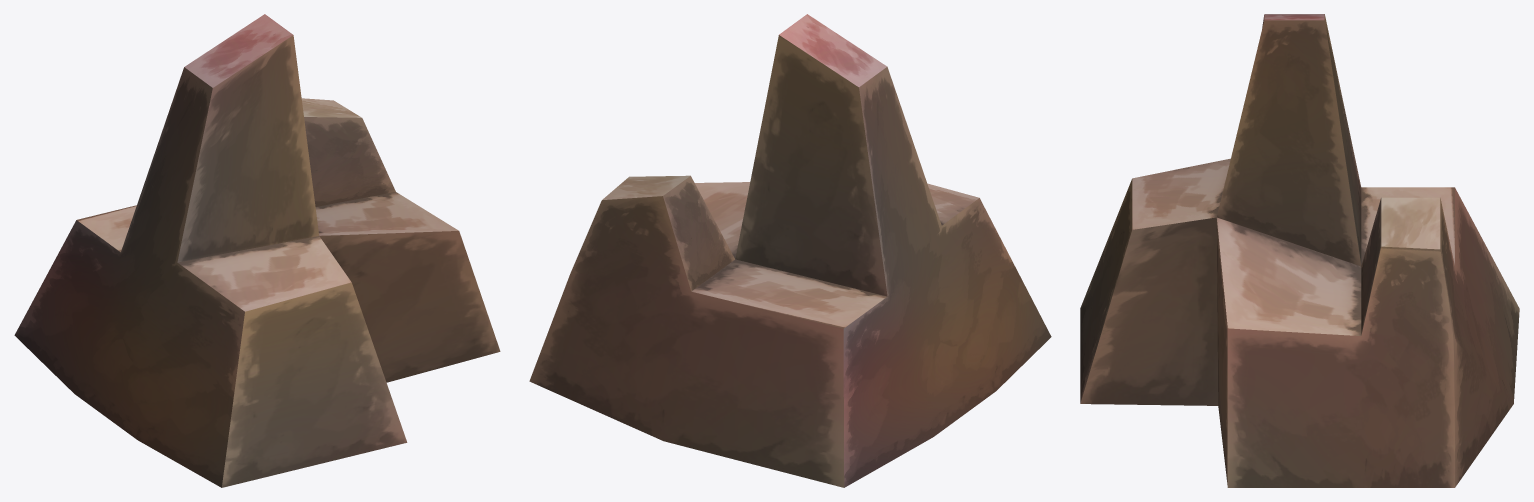
File: rock2.fbx
The picture shows the model from 3 angles, left to right: view 1: azimuth 30°, elevation 25°; view 2: azimuth 150°, elevation 25°; view 3: azimuth 270°, elevation 25°; orthographic projection. The views are drawn at different scales.
Visible parts, largest first — view 1: pCube1; view 2: pCube1; view 3: pCube1.
Boxes of the visible parts, box(x1,y1,x2,y2) form: pCube1: box(14, 14, 500, 487); pCube1: box(529, 14, 1051, 487); pCube1: box(1080, 14, 1519, 487).
Size of the model in its own units: 16.52 by 15.25 by 16.42.
1 material, 1 textured.
